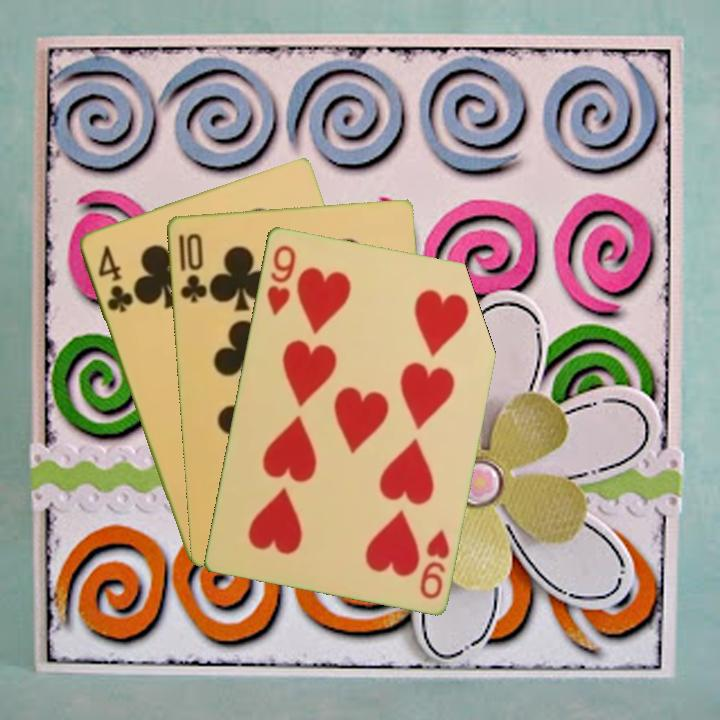10c: (175, 229, 209, 305)
4c: (94, 241, 136, 316)
9h: (415, 524, 452, 602), (263, 241, 299, 318)
